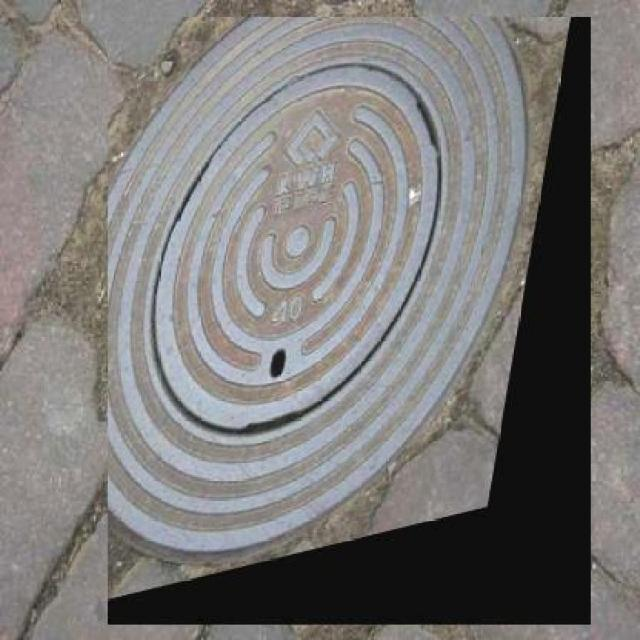Manhole: (108, 17, 590, 625)
